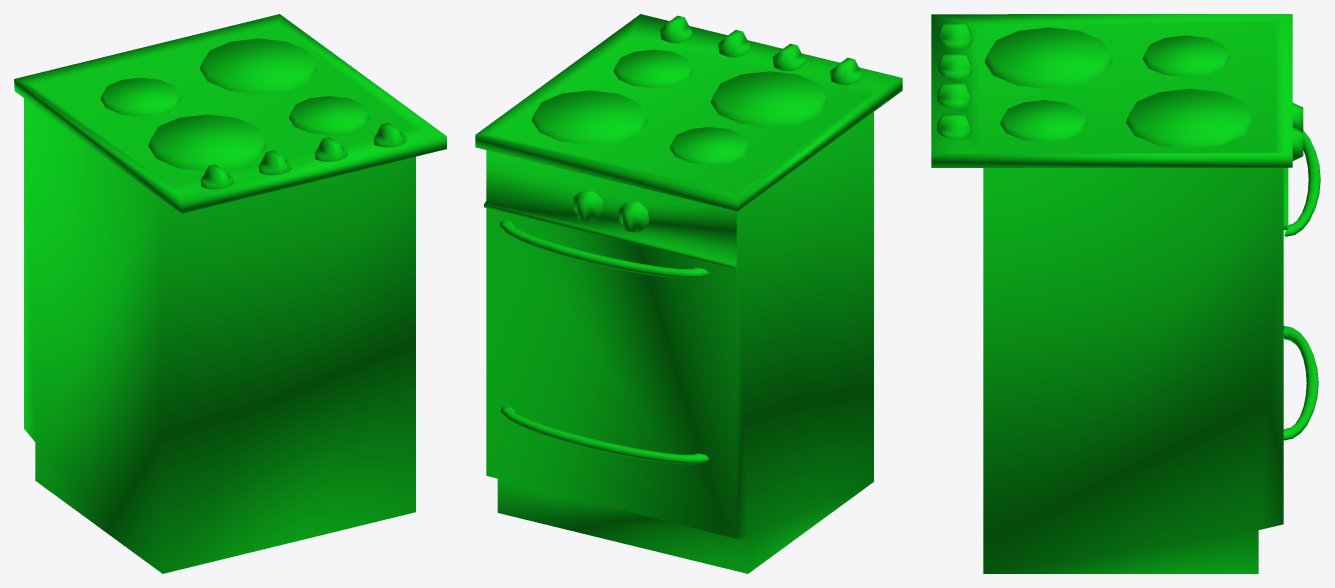
File: stove.fbx
The picture shows the model from 3 angles, left to right: view 1: azimuth 30°, elevation 25°; view 2: azimuth 150°, elevation 25°; view 3: azimuth 270°, elevation 25°; orthographic projection. The views are drawn at different scales.
Parts seen in each view (by area): view 1: Items.010; view 2: Items.010; view 3: Items.010.
Part boxes in pixels (x1,y1,x2,y2): Items.010: (14,14,446,573); Items.010: (475,14,902,573); Items.010: (931,14,1320,573).
Bounding box in the file's own units: 93.57 × 136 × 110.
